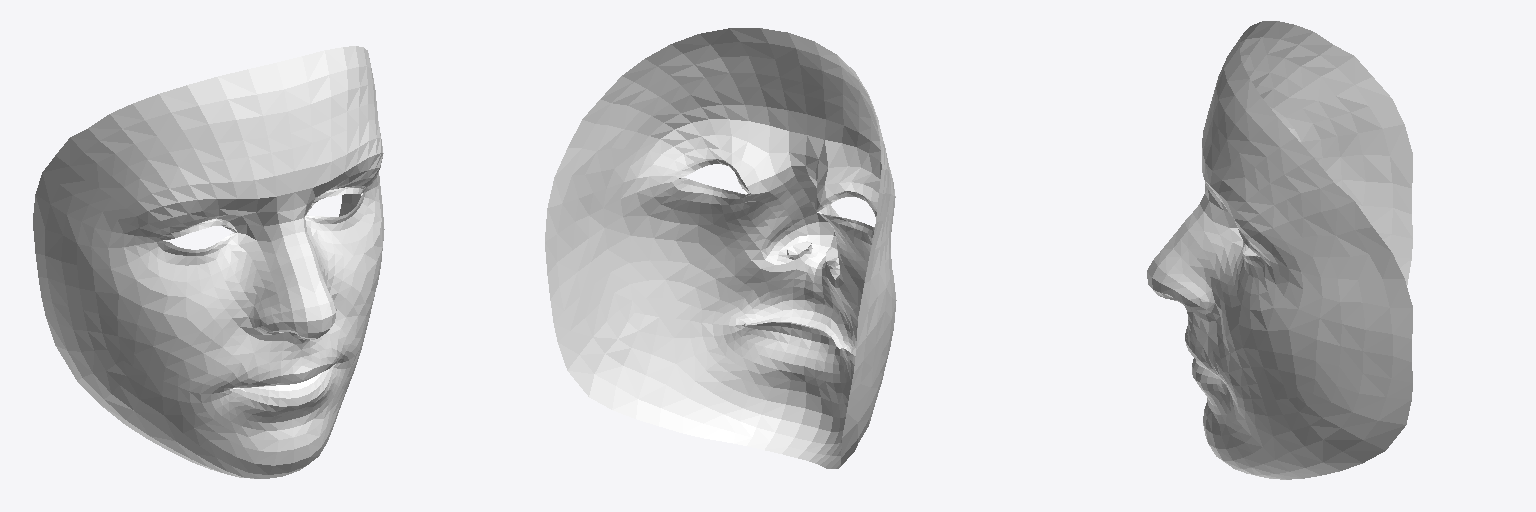
The model's file is eyeLookIn_L.obj.
3 views of the same model, side by side, from view 1: azimuth 30°, elevation 25°; view 2: azimuth 150°, elevation 25°; view 3: azimuth 270°, elevation 25° (orthographic).
Visible parts, largest first — view 1: default; view 2: default; view 3: default.
Part boxes in pixels (x1,y1,x2,y2): default: (33, 46, 384, 478); default: (545, 28, 896, 468); default: (1147, 21, 1412, 479).
Size of the model in its own units: 0.1447 by 0.182 by 0.1055.